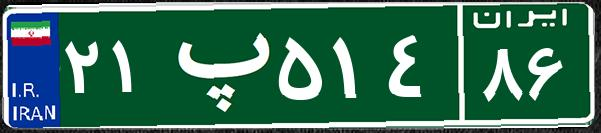1: (330, 28, 385, 110), (110, 28, 158, 105)
2: (57, 26, 110, 107)
4: (385, 28, 445, 110)
5: (273, 28, 330, 110)
6: (525, 38, 570, 115)
8: (475, 38, 525, 113)
پ: (158, 15, 273, 115)
